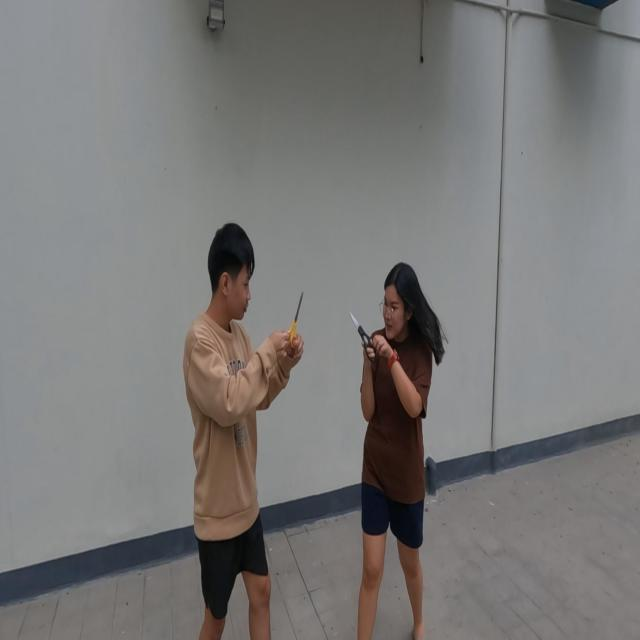scissor: (349, 312, 376, 364), (287, 290, 304, 348)
